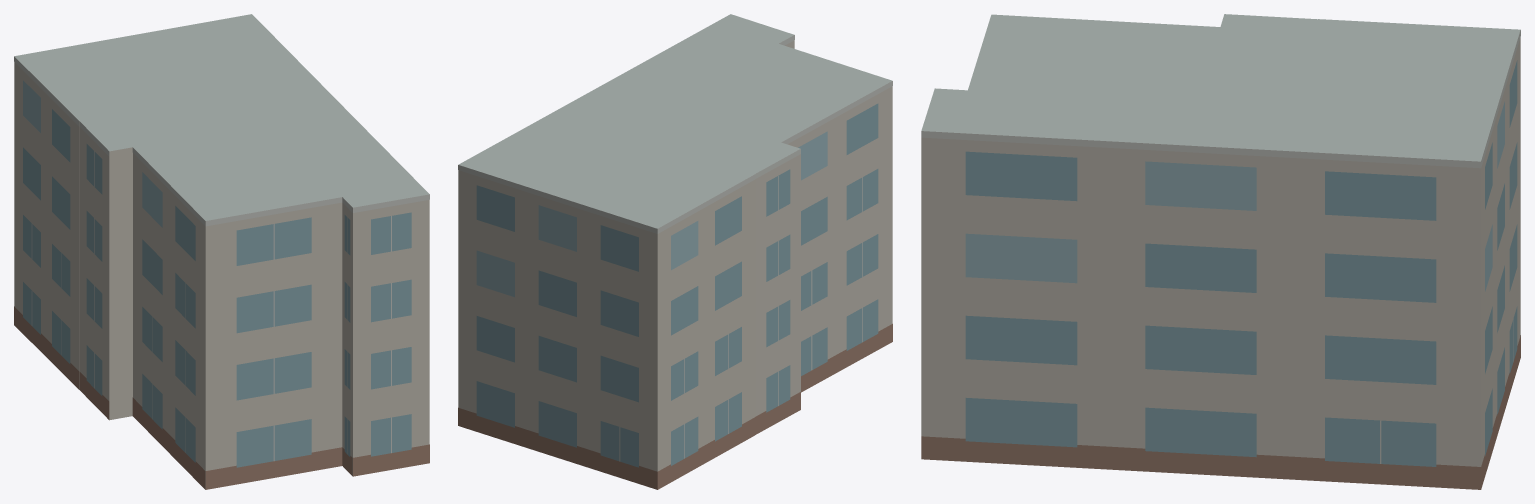
The model's file is survey-upis-32912912.glb.
3 renders of one model, left to right at view 1: azimuth 30°, elevation 25°; view 2: azimuth 150°, elevation 25°; view 3: azimuth 270°, elevation 25°, orthographic. The views are drawn at different scales.
Visible parts, largest first — view 1: survey-upis-32912912.tmp; view 2: survey-upis-32912912.tmp; view 3: survey-upis-32912912.tmp.
Boxes of the visible parts, x1,y1,x2,y2 form: survey-upis-32912912.tmp: (14,14,429,489); survey-upis-32912912.tmp: (458,14,892,489); survey-upis-32912912.tmp: (921,14,1520,489).
Bounding box in the file's own units: 11.68 × 12.1 × 20.04.
